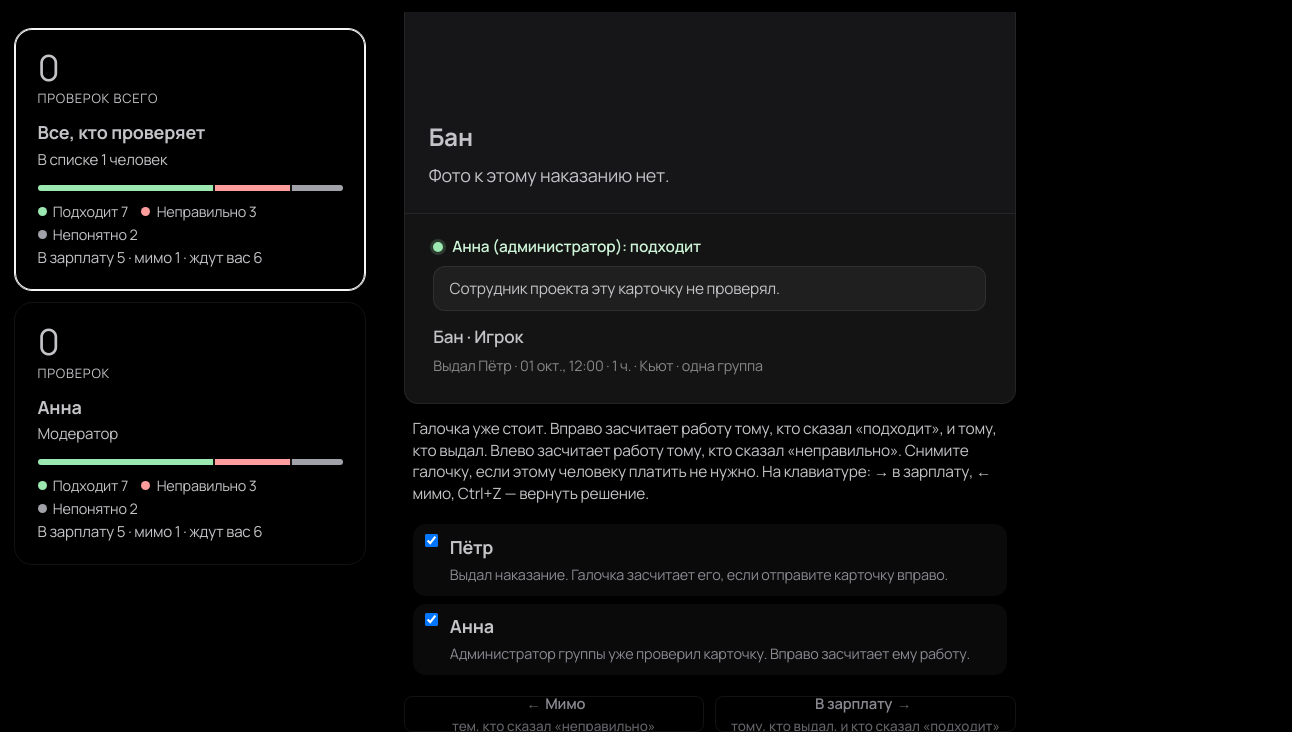
Scenario: CreatorPay › takes the last decision back
(page scrolled)
Expected: the heading "Бан · Игрок" is shown, top-left (433, 325), bottom-right (523, 348)
Click the button "В зарплату → тому, кто выдал, и кто сказал «подходит»" at (865, 714), box top-left (715, 696), bottom-right (1016, 731)
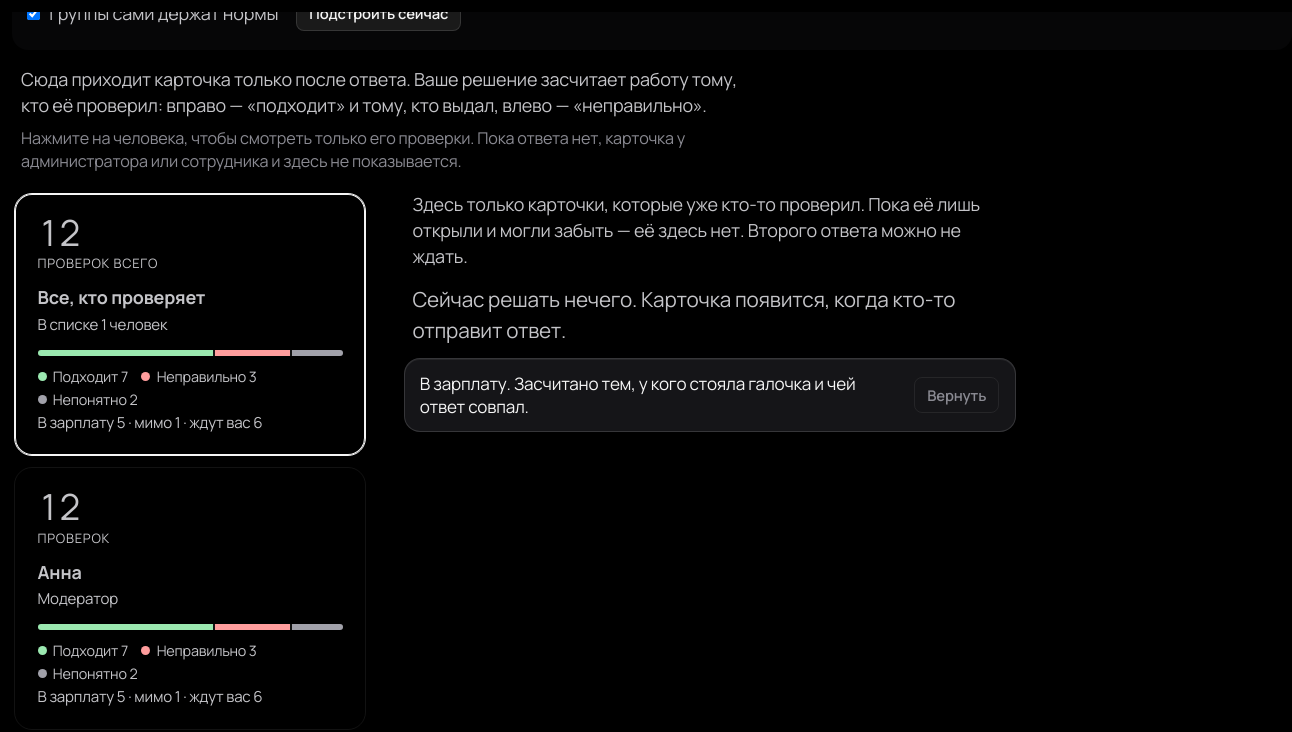
Click the button "Вернуть" at (957, 395), box top-left (914, 377), bottom-right (999, 413)
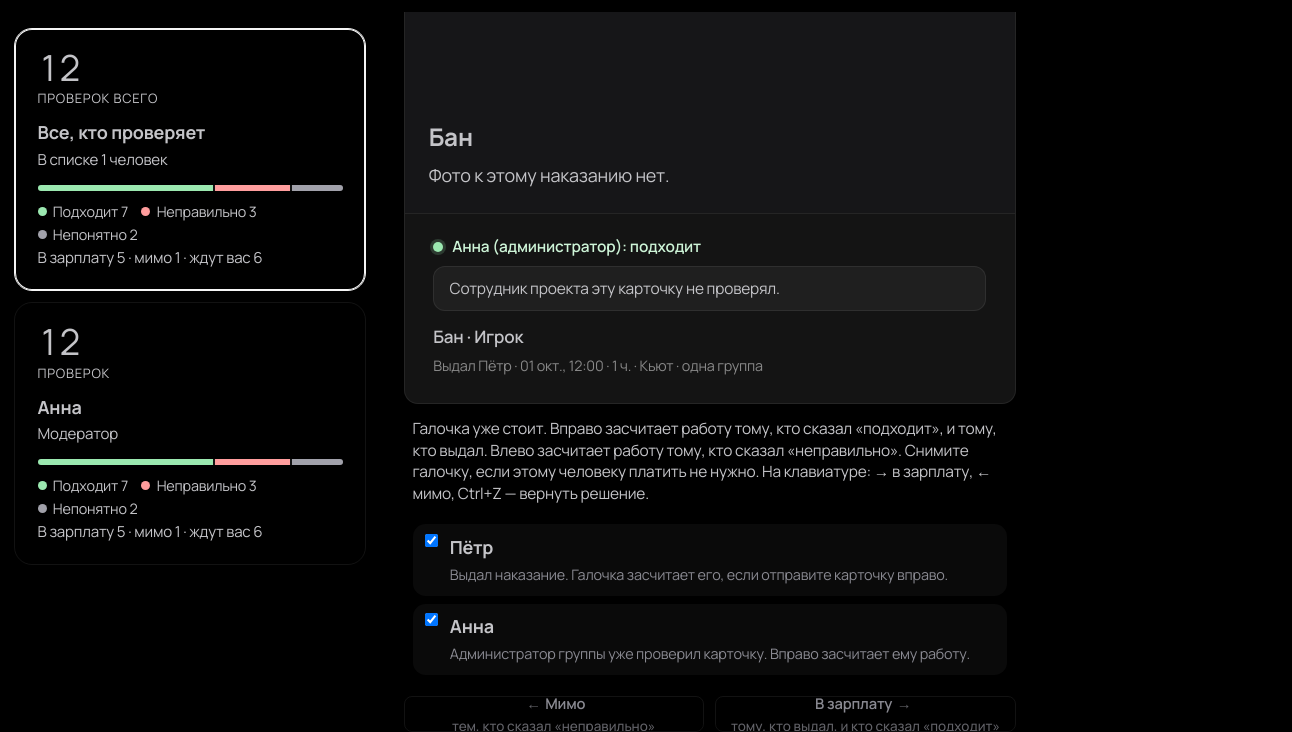
Result: the heading "Бан · Игрок" is shown at top-left (433, 325), bottom-right (523, 348)
